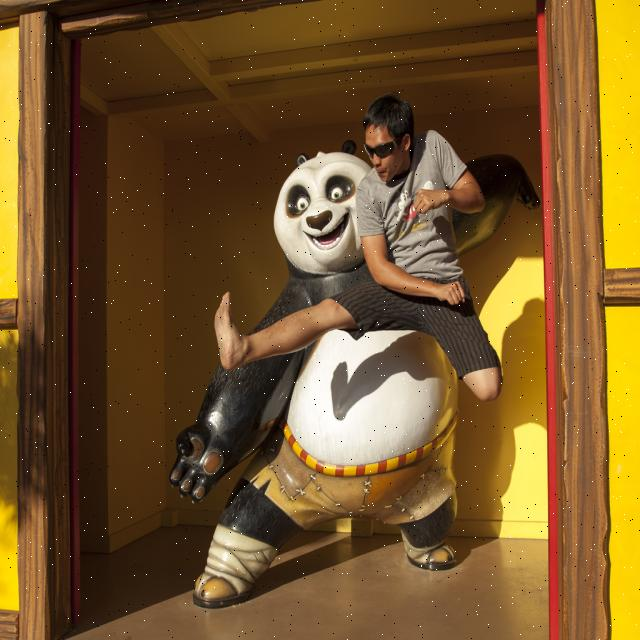panda: (169, 144, 542, 607)
